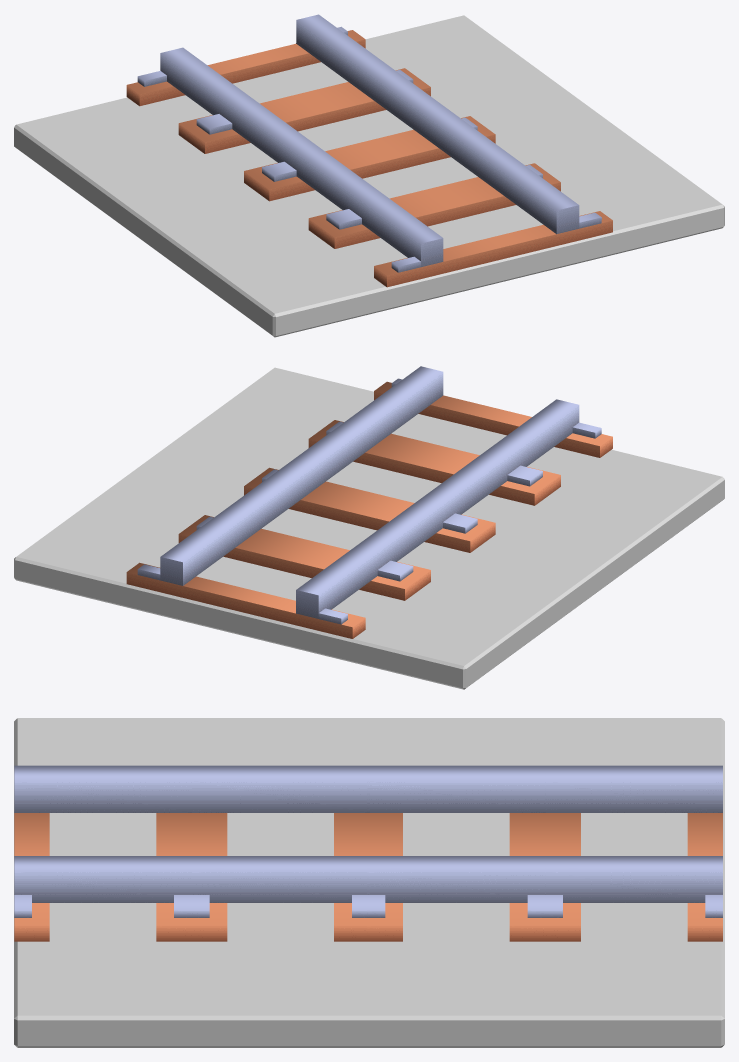
The model's file is track.glb.
The picture shows the model from 3 angles, top to bottom: view 1: azimuth 30°, elevation 25°; view 2: azimuth 150°, elevation 25°; view 3: azimuth 270°, elevation 25°; orthographic projection. The views are drawn at different scales.
Parts seen in each view (by area): view 1: Floor, track-detailed.001, track-detailed; view 2: Floor, track-detailed, track-detailed.001; view 3: Floor, track-detailed, track-detailed.001.
Boxes of the visible parts, x1,y1,x2,y2 form: Floor: (14, 15, 724, 337); track-detailed.001: (256, 110, 612, 287); track-detailed: (126, 14, 482, 191); Floor: (14, 367, 724, 689); track-detailed: (126, 461, 483, 638); track-detailed.001: (257, 366, 612, 543); Floor: (14, 718, 724, 1047); track-detailed: (367, 765, 722, 941); track-detailed.001: (14, 765, 369, 941).
Size of the model in its own units: 2 by 0.2512 by 2.
Materials: 2 (2 with a texture image).
